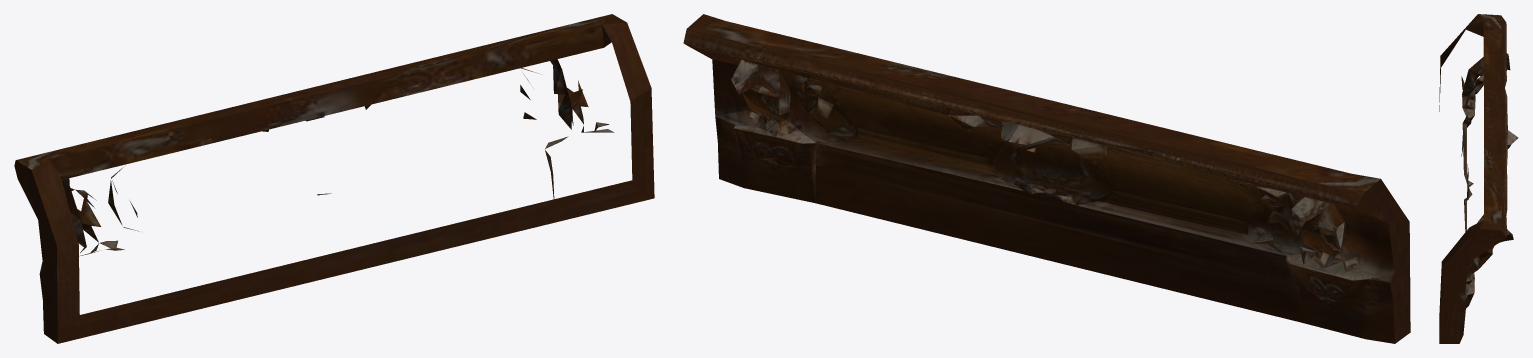
File: ceiling-cornice.lod1.glb
3 renders of one model, left to right at view 1: azimuth 30°, elevation 25°; view 2: azimuth 150°, elevation 25°; view 3: azimuth 270°, elevation 25°, orthographic. The views are drawn at different scales.
Visible parts, largest first — view 1: ceiling-cornice; view 2: ceiling-cornice; view 3: ceiling-cornice.
Boxes of the visible parts, bbox=[...] form: ceiling-cornice: bbox=[14, 14, 654, 343]; ceiling-cornice: bbox=[683, 14, 1410, 343]; ceiling-cornice: bbox=[1439, 14, 1518, 343].
Size of the model in its own units: 4 by 1.01 by 0.6245.
Materials: 1 (1 with a texture image).
